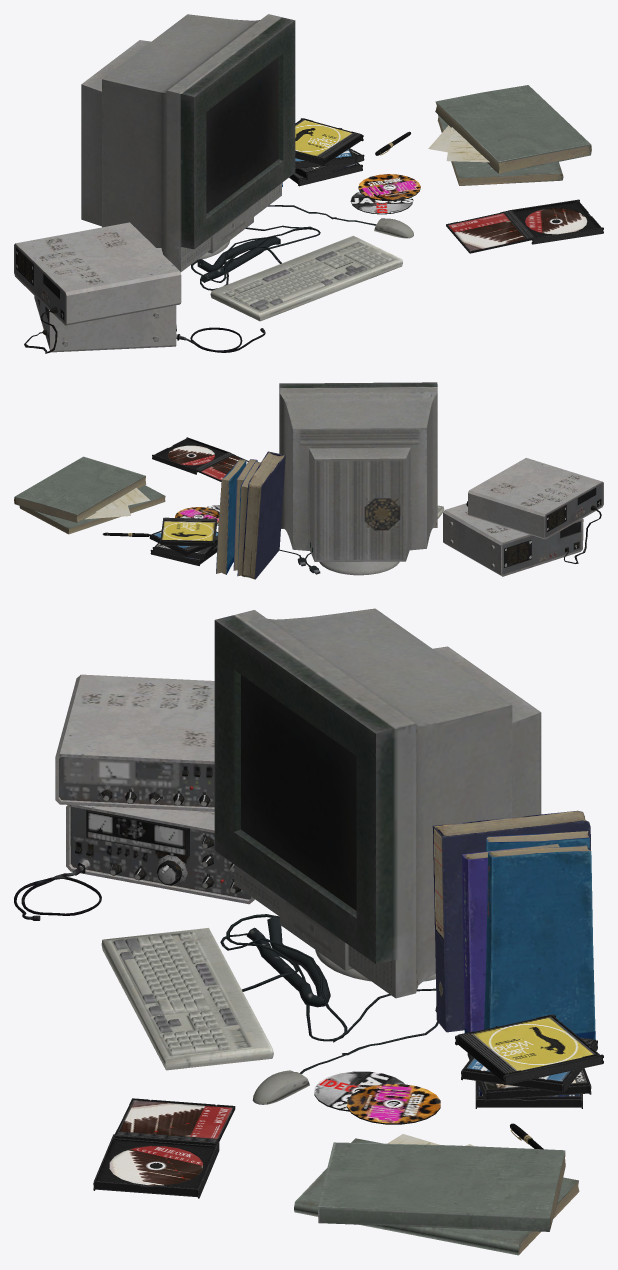
File: sm39_026_starsdeskset01a.fbx
The picture shows the model from 3 angles, top to bottom: view 1: azimuth 30°, elevation 25°; view 2: azimuth 150°, elevation 25°; view 3: azimuth 270°, elevation 25°; orthographic projection. The views are drawn at different scales.
Parts seen in each view (by area): view 1: LOD_1_Group_0_Sub_2__sm31_032_CommissionerPc01A_A_Mat, LOD_1_Group_0_Sub_4__sm31_023_AudioInstrument01A_A_Mat, LOD_1_Group_0_Sub_8__sm39_026_CD01A_A_Mat, LOD_1_Group_3_Sub_1__sm36_007_PaperWork01A_A_Mat, LOD_1_Group_0_Sub_3__sm42_002_DesktopPc01A_A_Mat, LOD_1_Group_0_Sub_7__sm31_021_KeyBoard01A_A_Mat1, LOD_1_Group_5_Sub_1__sm36_007_PaperWork01A_A_Mat, LOD_1_Group_3_Sub_2__sm7x_ItemCommon_Letter01A_A_Mat, LOD_1_Group_2_Sub_2__sm31_013_BlackTelephone01A_A_Mat; view 2: LOD_1_Group_0_Sub_2__sm31_032_CommissionerPc01A_A_Mat, LOD_1_Group_0_Sub_4__sm31_023_AudioInstrument01A_A_Mat, LOD_1_Group_0_Sub_8__sm39_026_CD01A_A_Mat, LOD_1_Group_3_Sub_1__sm36_007_PaperWork01A_A_Mat, LOD_1_Group_4_Sub_1__sm36_007_PaperWork01A_A_Mat, LOD_1_Group_2_Sub_1__sm36_007_PaperWork01A_A_Mat, LOD_1_Group_5_Sub_1__sm36_007_PaperWork01A_A_Mat, LOD_1_Group_1_Sub_2__sm31_032_CommissionerPc01A_A_Mat, LOD_1_Group_0_Sub_1__sm36_007_PaperWork01A_A_Mat, LOD_1_Group_1_Sub_1__sm36_007_PaperWork01A_A_Mat, LOD_1_Group_3_Sub_2__sm7x_ItemCommon_Letter01A_A_Mat, LOD_1_Group_0_Sub_6__sm7x_ItemCommon_Letter01A_A_Mat; view 3: LOD_1_Group_0_Sub_2__sm31_032_CommissionerPc01A_A_Mat, LOD_1_Group_0_Sub_4__sm31_023_AudioInstrument01A_A_Mat, LOD_1_Group_0_Sub_8__sm39_026_CD01A_A_Mat, LOD_1_Group_3_Sub_1__sm36_007_PaperWork01A_A_Mat, LOD_1_Group_2_Sub_1__sm36_007_PaperWork01A_A_Mat, LOD_1_Group_0_Sub_3__sm42_002_DesktopPc01A_A_Mat, LOD_1_Group_4_Sub_1__sm36_007_PaperWork01A_A_Mat, LOD_1_Group_1_Sub_1__sm36_007_PaperWork01A_A_Mat, LOD_1_Group_0_Sub_7__sm31_021_KeyBoard01A_A_Mat1, LOD_1_Group_5_Sub_1__sm36_007_PaperWork01A_A_Mat, LOD_1_Group_0_Sub_1__sm36_007_PaperWork01A_A_Mat, LOD_1_Group_2_Sub_2__sm31_013_BlackTelephone01A_A_Mat.
Part boxes in pixels (x1,y1,x2,y2): LOD_1_Group_0_Sub_2__sm31_032_CommissionerPc01A_A_Mat: (81,14,295,272); LOD_1_Group_0_Sub_4__sm31_023_AudioInstrument01A_A_Mat: (14,222,181,353); LOD_1_Group_0_Sub_8__sm39_026_CD01A_A_Mat: (289,118,603,253); LOD_1_Group_3_Sub_1__sm36_007_PaperWork01A_A_Mat: (435,85,591,173); LOD_1_Group_0_Sub_3__sm42_002_DesktopPc01A_A_Mat: (210,218,413,321); LOD_1_Group_0_Sub_7__sm31_021_KeyBoard01A_A_Mat1: (191,205,376,290); LOD_1_Group_5_Sub_1__sm36_007_PaperWork01A_A_Mat: (437,115,563,185); LOD_1_Group_3_Sub_2__sm7x_ItemCommon_Letter01A_A_Mat: (446,127,489,162); LOD_1_Group_2_Sub_2__sm31_013_BlackTelephone01A_A_Mat: (177,327,265,352); LOD_1_Group_0_Sub_2__sm31_032_CommissionerPc01A_A_Mat: (279,382,437,561); LOD_1_Group_0_Sub_4__sm31_023_AudioInstrument01A_A_Mat: (443,458,603,576); LOD_1_Group_0_Sub_8__sm39_026_CD01A_A_Mat: (149,437,248,565); LOD_1_Group_3_Sub_1__sm36_007_PaperWork01A_A_Mat: (14,456,146,522); LOD_1_Group_4_Sub_1__sm36_007_PaperWork01A_A_Mat: (242,451,285,579); LOD_1_Group_2_Sub_1__sm36_007_PaperWork01A_A_Mat: (216,459,246,574); LOD_1_Group_5_Sub_1__sm36_007_PaperWork01A_A_Mat: (19,485,165,534); LOD_1_Group_1_Sub_2__sm31_032_CommissionerPc01A_A_Mat: (319,561,399,575); LOD_1_Group_0_Sub_1__sm36_007_PaperWork01A_A_Mat: (237,461,260,576); LOD_1_Group_1_Sub_1__sm36_007_PaperWork01A_A_Mat: (233,459,257,570); LOD_1_Group_3_Sub_2__sm7x_ItemCommon_Letter01A_A_Mat: (95,487,150,512); LOD_1_Group_0_Sub_6__sm7x_ItemCommon_Letter01A_A_Mat: (84,505,130,519); LOD_1_Group_0_Sub_2__sm31_032_CommissionerPc01A_A_Mat: (214,608,541,998); LOD_1_Group_0_Sub_4__sm31_023_AudioInstrument01A_A_Mat: (55,674,254,904); LOD_1_Group_0_Sub_8__sm39_026_CD01A_A_Mat: (93,1014,603,1198); LOD_1_Group_3_Sub_1__sm36_007_PaperWork01A_A_Mat: (318,1142,565,1231); LOD_1_Group_2_Sub_1__sm36_007_PaperWork01A_A_Mat: (484,845,595,1039); LOD_1_Group_0_Sub_3__sm42_002_DesktopPc01A_A_Mat: (101,928,309,1104); LOD_1_Group_4_Sub_1__sm36_007_PaperWork01A_A_Mat: (432,810,590,1032); LOD_1_Group_1_Sub_1__sm36_007_PaperWork01A_A_Mat: (462,843,559,1032); LOD_1_Group_0_Sub_7__sm31_021_KeyBoard01A_A_Mat1: (220,914,439,1073); LOD_1_Group_5_Sub_1__sm36_007_PaperWork01A_A_Mat: (294,1138,579,1255); LOD_1_Group_0_Sub_1__sm36_007_PaperWork01A_A_Mat: (485,831,589,851); LOD_1_Group_2_Sub_2__sm31_013_BlackTelephone01A_A_Mat: (14,863,101,920).
Size of the model in its own units: 1.69 by 0.5254 by 0.9013.
